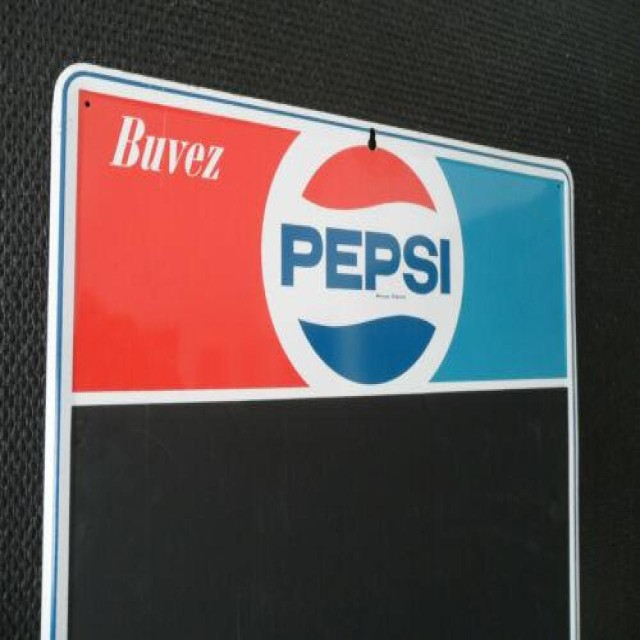pepsi: (266, 121, 466, 393)
